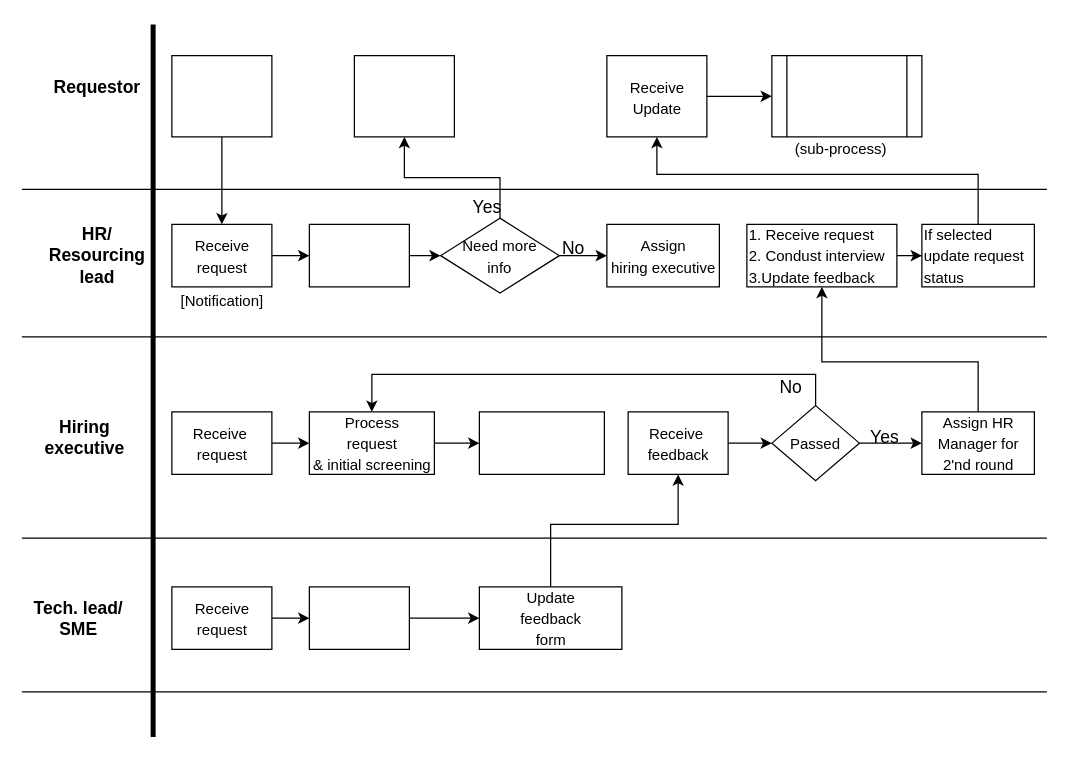
Image size: 1069x760. Some labels were removed from this diagram. The shapes that lost their labels are listed below. From the top down, each one's centre as x and y in pixels, then its label:
At pixel 221 95: "Create Resource Requisition".
At pixel 403 95: "Update & Submit".
At pixel 846 95: "Handover Process".
At pixel 358 255: "Review request".
At pixel 541 442: "Setup first interview round (Tech)".
At pixel 358 617: "Offline interview".
